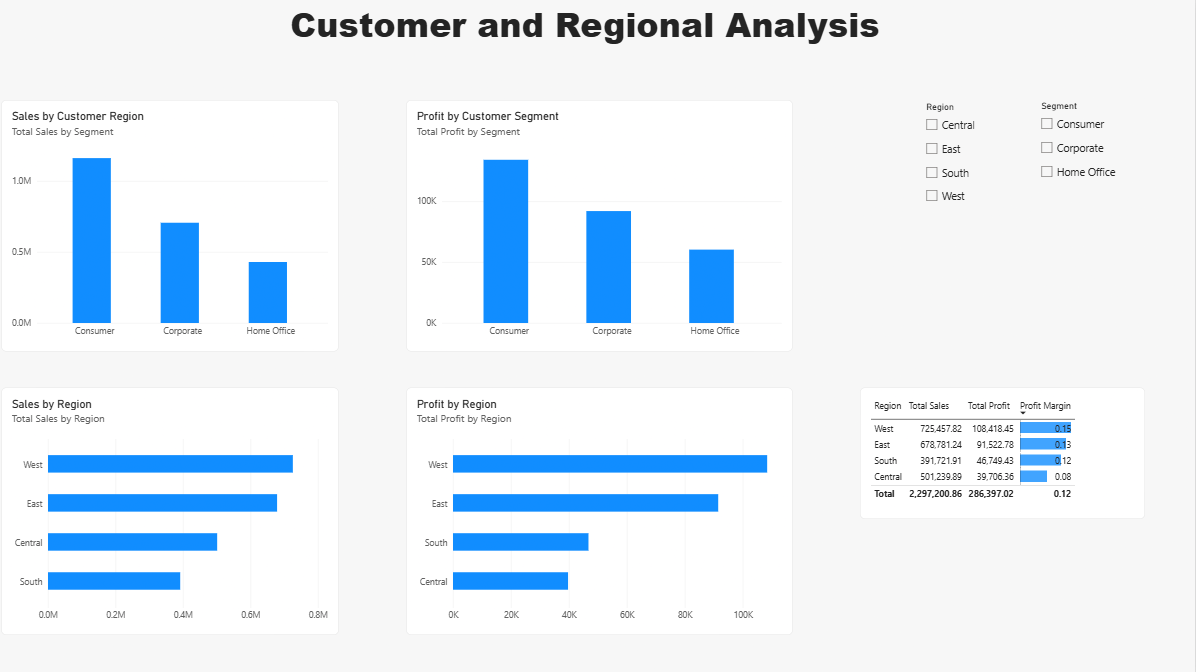

Layout of this report page (visuals, bound fields, positions):
{"tool":"powerbi","page":{"name":"Page 3- Customer and Regional Analysis","canvas":[1920,1080],"ordinal":2},"visuals":[{"type":"textbox","box":[10,0,1910,90],"z":0},{"type":"clusteredColumnChart","title":"Sales by Customer Region","fields":{"Category":["Orders.Segment"],"Y":["Orders.Total Sales"]},"box":[10,160,540,402],"z":1},{"type":"clusteredColumnChart","title":"Profit by Customer Segment","fields":{"Category":["Orders.Segment"],"Y":["Orders.Total Profit"]},"box":[658,160,618,402],"z":2},{"type":"clusteredBarChart","title":"Sales by Region","fields":{"Category":["Orders.Region"],"Y":["Orders.Total Sales"]},"box":[10,620,540,396],"z":3},{"type":"clusteredBarChart","title":"Profit by Region","fields":{"Category":["Orders.Region"],"Y":["Orders.Total Profit"]},"box":[658,620,618,396],"z":4},{"type":"slicer","fields":{"Values":["Orders.Region"]},"box":[1482,162,130,290],"z":5},{"type":"slicer","fields":{"Values":["Orders.Segment"]},"box":[1666,160,174,240],"z":6},{"type":"tableEx","fields":{"Values":["Orders.Region","Orders.Total Sales","Orders.Total Profit","Orders.Profit Margin"]},"box":[1384,620,456,210],"z":7}]}

Visuals, with their boxes in screenshot pixels (x1, y1, x2, y2), scaled from the page's 1920x1080 canvas onto the 1196x672 screenshot:
textbox: (6,0,1195,56)
"Sales by Customer Region" clusteredColumnChart: (6,100,343,350)
"Profit by Customer Segment" clusteredColumnChart: (410,100,795,350)
"Sales by Region" clusteredBarChart: (6,386,343,632)
"Profit by Region" clusteredBarChart: (410,386,795,632)
slicer - Orders.Region: (923,101,1004,281)
slicer - Orders.Segment: (1038,100,1146,249)
tableEx - Orders.Region x Orders.Total Sales: (862,386,1146,516)
